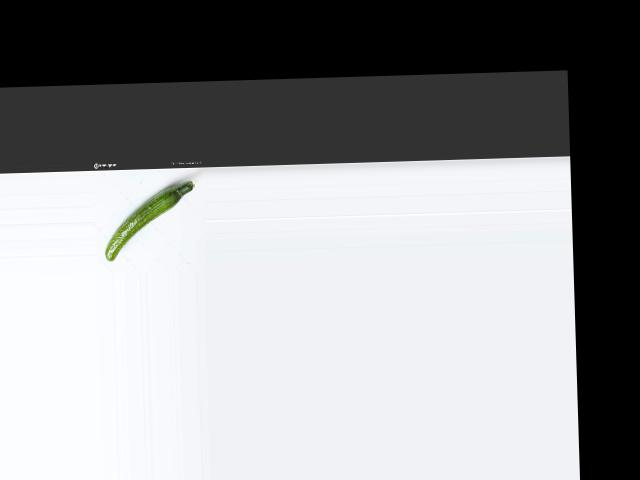cucumber: (103, 180, 197, 261)
